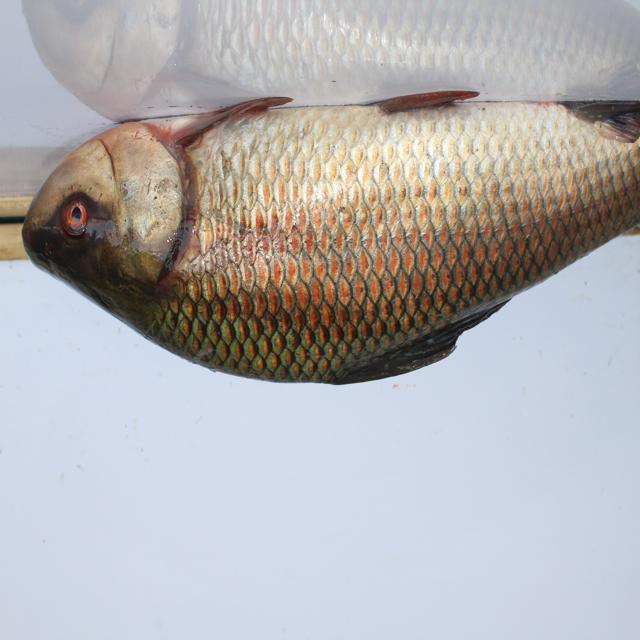Rohu: (30, 106, 633, 384)
